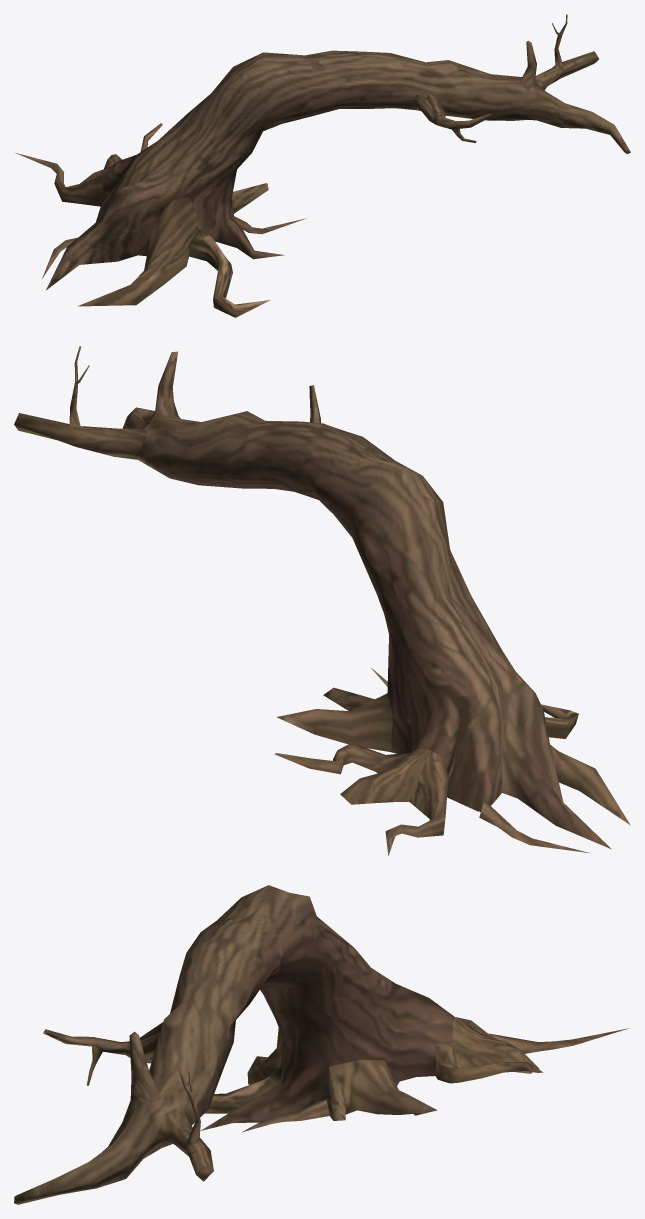
Rendered from Timber_A.fbx.
3 renders of one model, top to bottom at view 1: azimuth 30°, elevation 25°; view 2: azimuth 150°, elevation 25°; view 3: azimuth 270°, elevation 25°, orthographic. The views are drawn at different scales.
Visible parts, largest first — view 1: Timber_A__3_; view 2: Timber_A__3_; view 3: Timber_A__3_.
Part boxes in pixels (x1,y1,x2,y2): Timber_A__3_: (16,14,630,317); Timber_A__3_: (14,346,630,855); Timber_A__3_: (14,885,628,1204).
Size of the model in its own units: 1.5 by 0.6169 by 1.16.
1 material, 1 textured.
